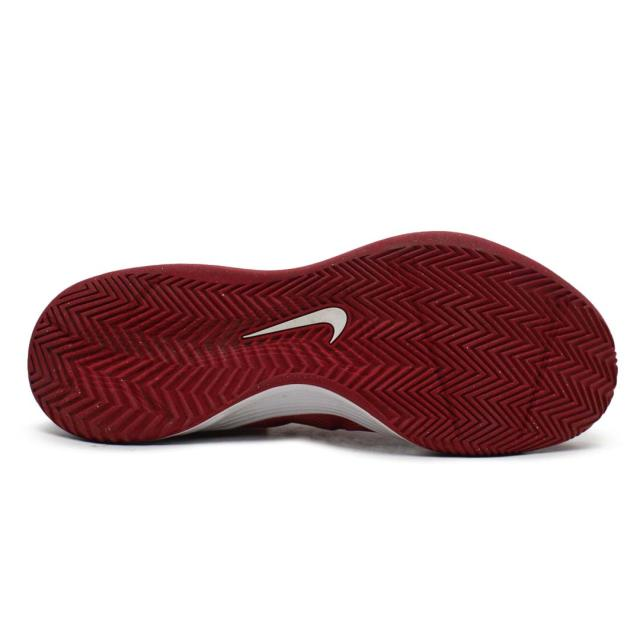outersole: (26, 233, 618, 456)
